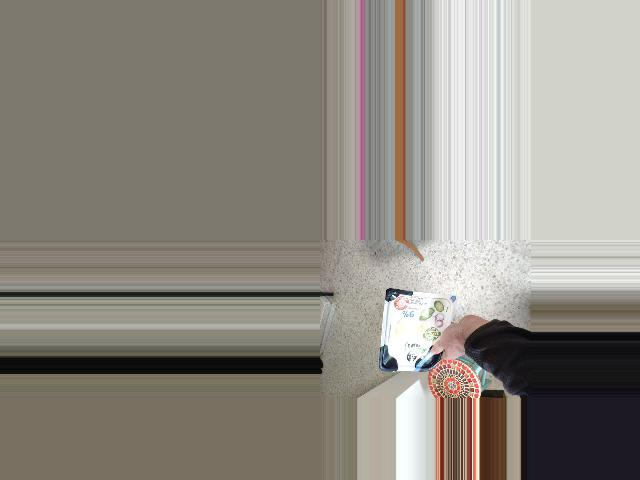cheese: (396, 288, 480, 370)
